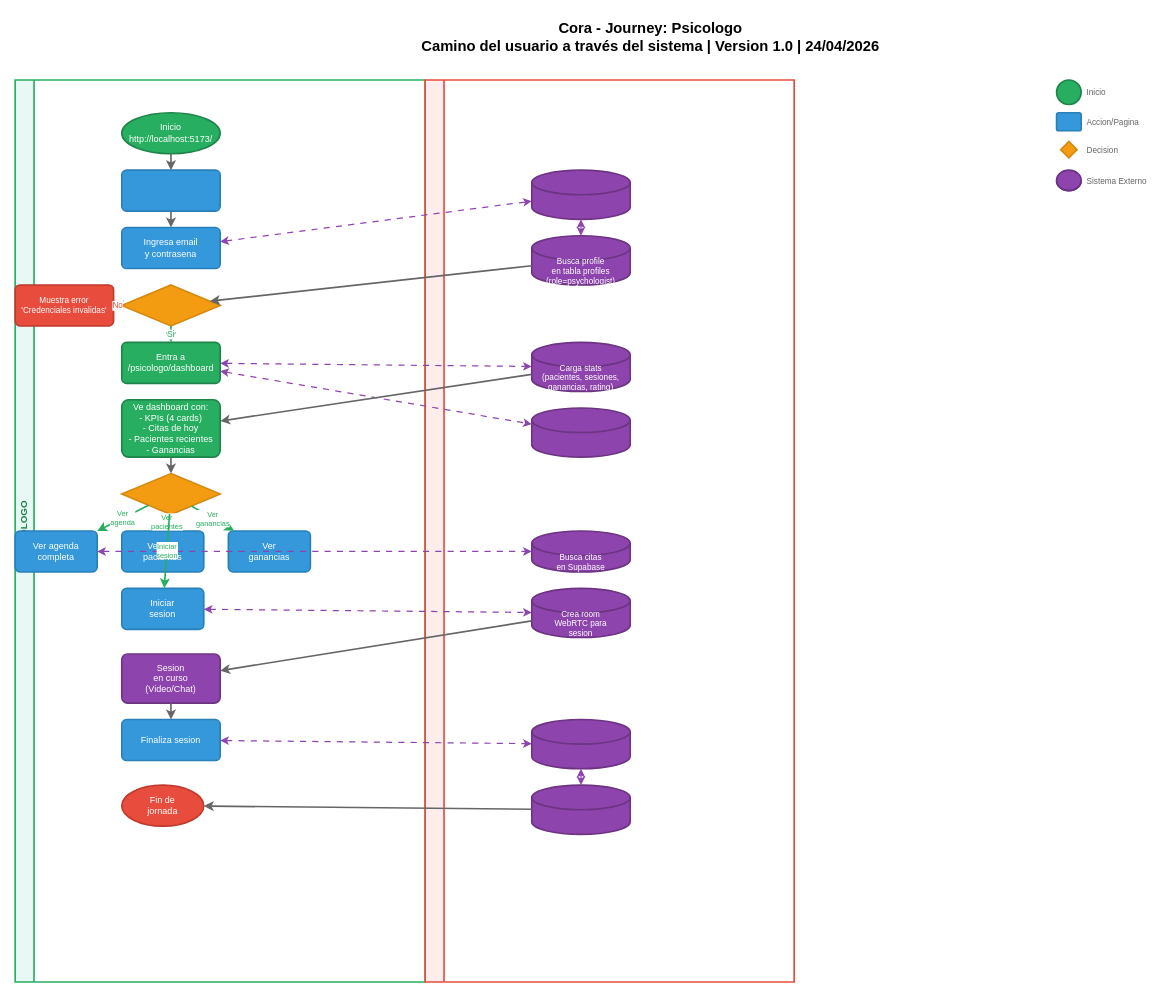
Some shapes in this 1164 by 996 pixel diagram are drawn without their labels. Each missing label, with the box of its shape:
Actualiza status cita a 'completed' en Supabase: (531, 718, 631, 769)
Busca citas de hoy y pacientes: (531, 407, 631, 458)
Calcula comision 15% plataforma: (531, 784, 631, 835)
Login exitoso?: (121, 284, 221, 326)
Que quiere hacer?: (121, 472, 221, 515)
SISTEMA / SUPABASE: (424, 79, 795, 982)
Supabase Auth valida credenciales (psychologist): (531, 169, 631, 220)
Va a /login: (121, 169, 221, 212)
